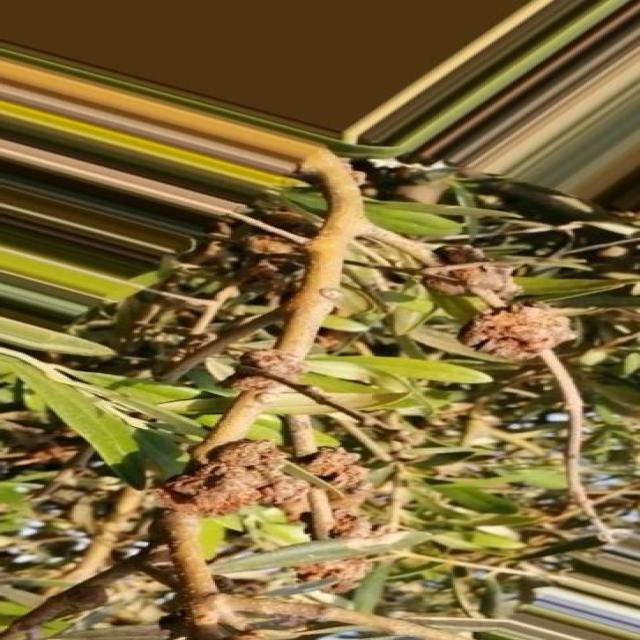Tuberculosis: (159, 439, 309, 518), (430, 303, 577, 361), (300, 448, 374, 538), (423, 262, 520, 307), (220, 348, 301, 391), (296, 558, 370, 594)
